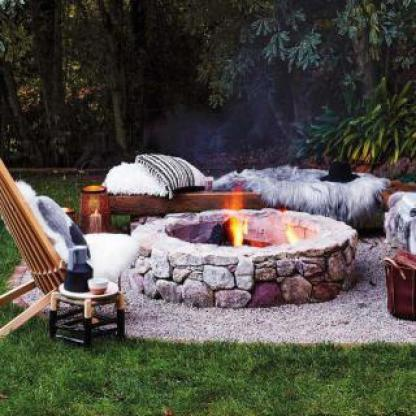fire: (224, 189, 252, 247), (278, 209, 302, 244)
